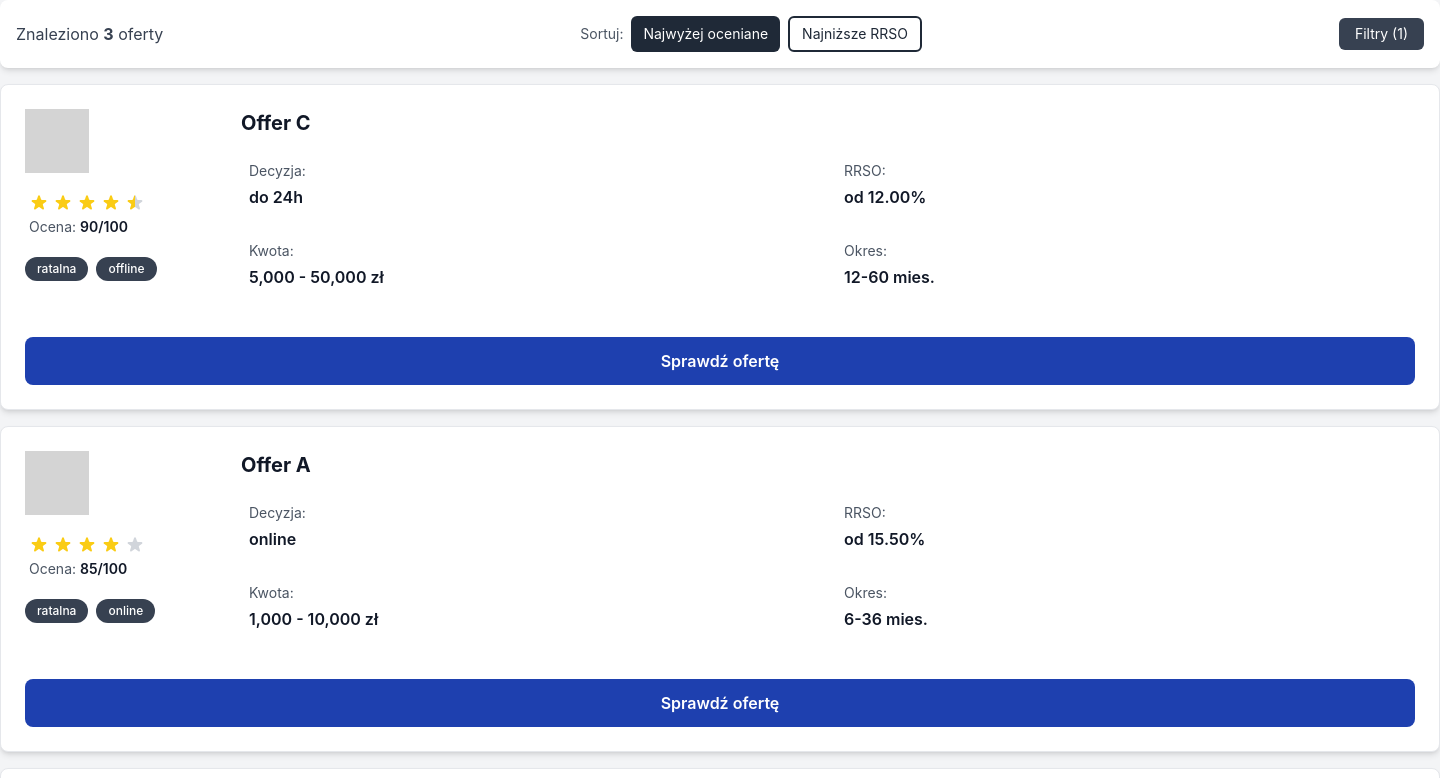
Test: OffersList › Tag Filtering › should show clear filters button when tags are selected
Click the button "Filtry (1)": [1382, 34] box [1339,18,1424,50]
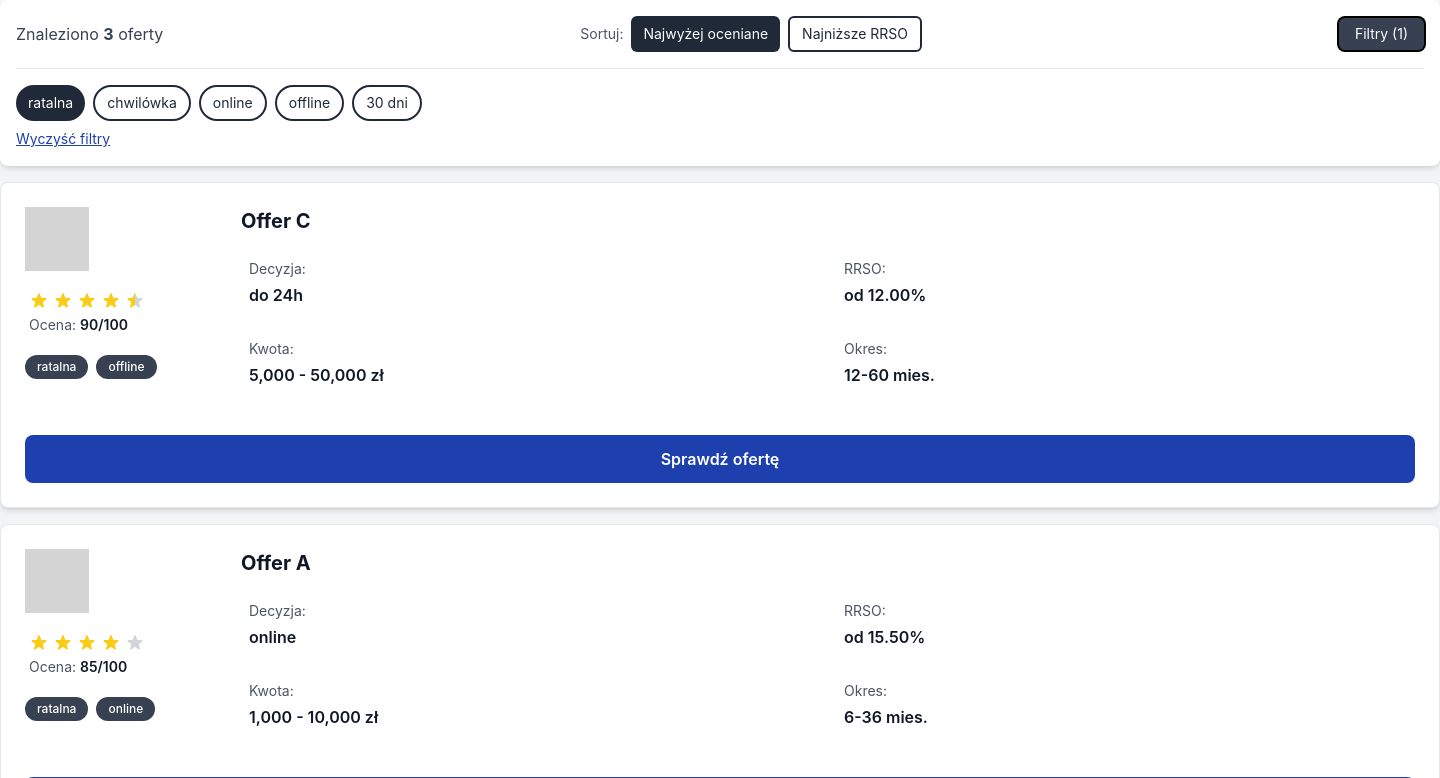
Now the button "Wyczyść filtry" is shown, box [16,129,110,149]
